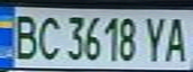1: (100, 14, 121, 62)
3: (63, 12, 84, 62)
6: (81, 12, 103, 62)
8: (118, 14, 142, 62)
A: (160, 12, 193, 63)
B: (6, 10, 42, 61)
C: (33, 12, 63, 62)
Y: (139, 12, 172, 63)
